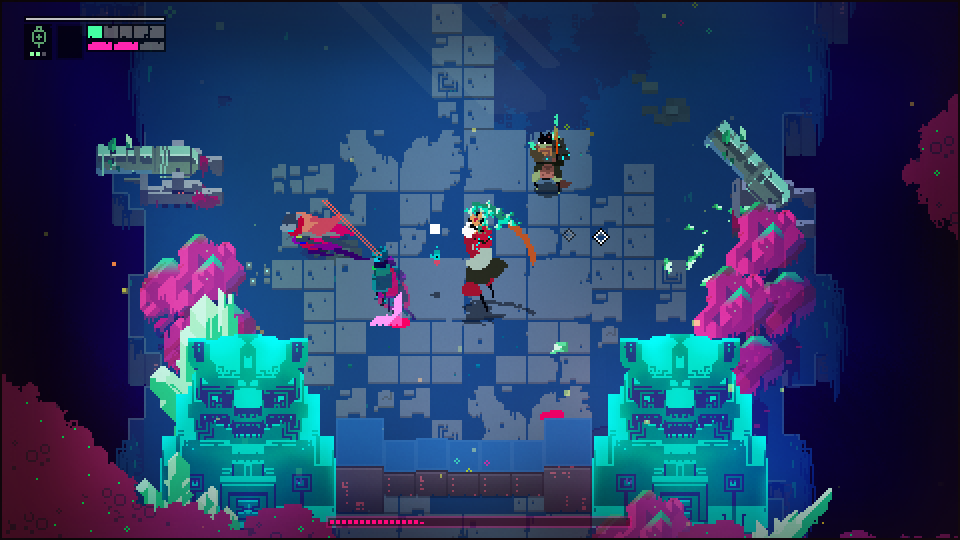hanged_man: (457, 200, 538, 315)
player: (278, 205, 351, 255)
